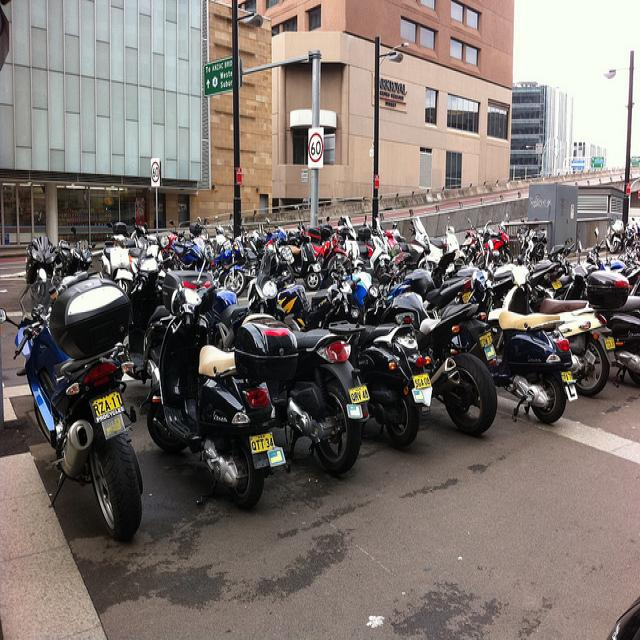motor: (10, 43, 639, 478), (133, 257, 305, 509), (1, 272, 146, 542), (277, 284, 434, 450), (245, 269, 368, 476), (460, 236, 577, 427), (366, 270, 499, 436), (523, 265, 630, 400), (545, 269, 640, 320), (410, 209, 460, 271), (278, 232, 321, 289), (25, 236, 56, 309), (213, 226, 245, 296), (70, 226, 105, 279)
